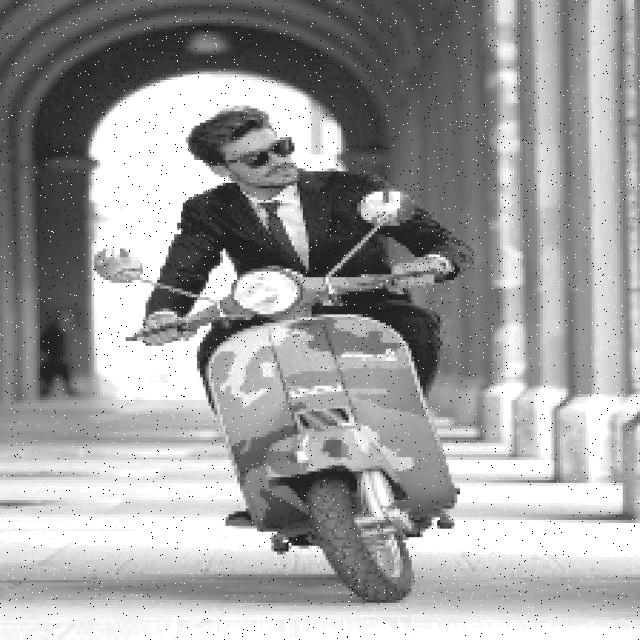Bike: (179, 269, 465, 604)
